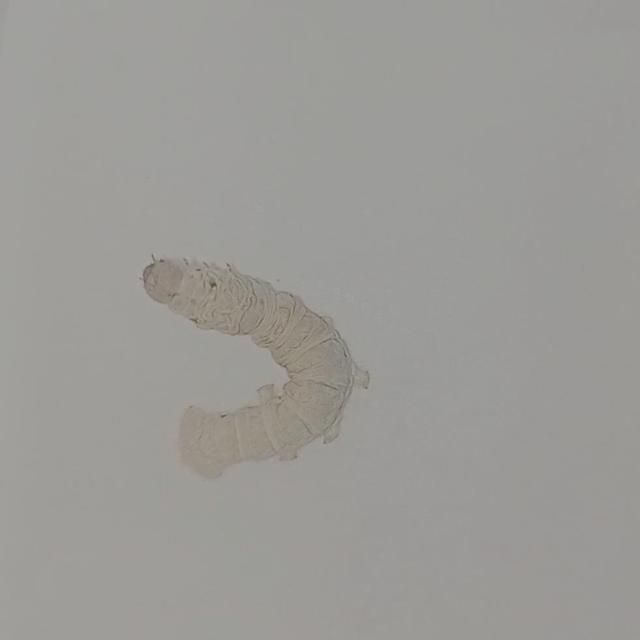Healthy: (133, 245, 378, 481)
